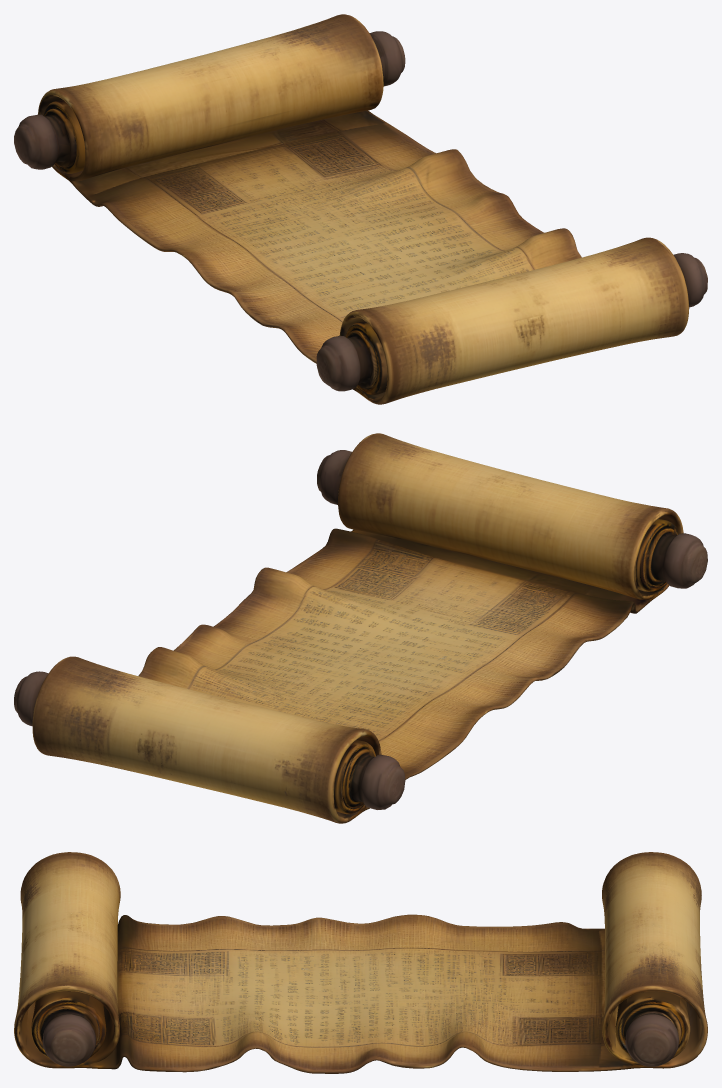
Rendered from canghuang.glb.
3 views of the same model, one above another, from view 1: azimuth 30°, elevation 25°; view 2: azimuth 150°, elevation 25°; view 3: azimuth 270°, elevation 25° (orthographic). The views are drawn at different scales.
Parts seen in each view (by area): view 1: node_0; view 2: node_0; view 3: node_0.
Boxes of the visible parts, x1,y1,x2,y2 form: node_0: [14, 14, 707, 404]; node_0: [14, 433, 707, 823]; node_0: [14, 852, 707, 1073].
Bounding box in the file's own units: 0.6542 × 0.1463 × 1.09.
Materials: 1 (1 with a texture image).
